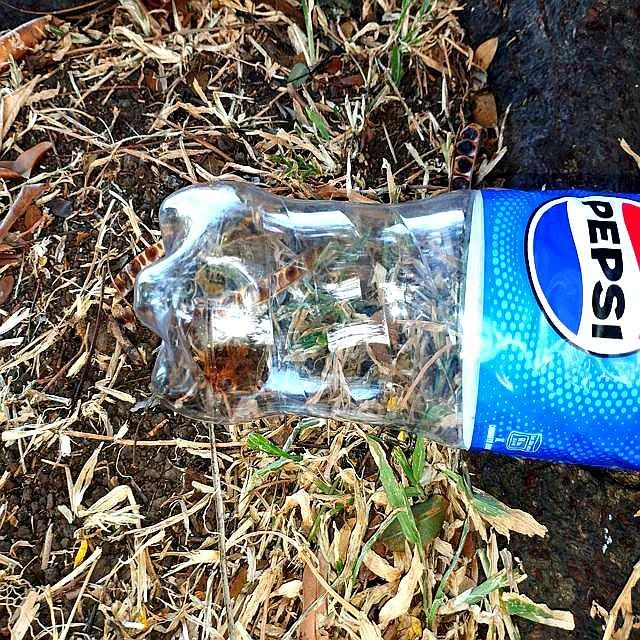Non-biodegradable: (129, 175, 640, 475)
